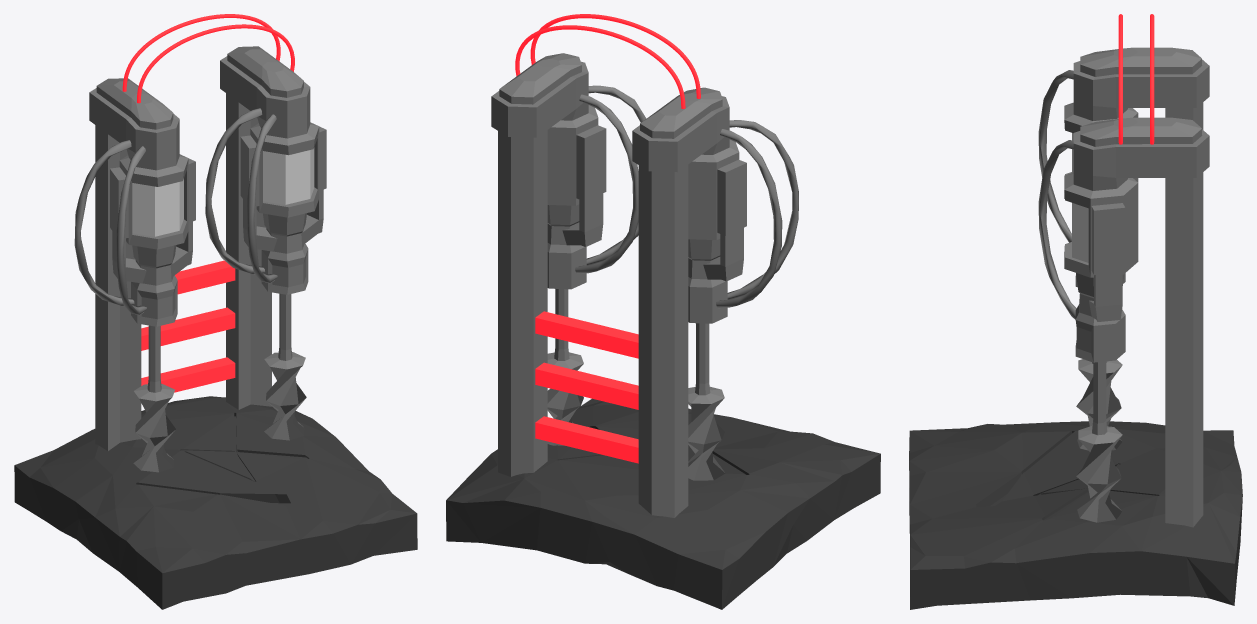
File: StoneGenLevel10.fbx
The picture shows the model from 3 angles, left to right: view 1: azimuth 30°, elevation 25°; view 2: azimuth 150°, elevation 25°; view 3: azimuth 270°, elevation 25°; orthographic projection. The views are drawn at different scales.
Parts seen in each view (by area): view 1: Cube.005, Cylinder, Cylinder.001, Cube, Cube.001, Cube.002, NurbsPath.001, NurbsPath; view 2: Cube.005, Cylinder, Cylinder.001, Cube.001, Cube.002, Cube, NurbsPath, NurbsPath.001; view 3: Cube.005, Cylinder.001, Cylinder, NurbsPath, NurbsPath.001.
Part boxes in pixels (<box>): Cube.005: <box>14,396,417,609</box>; Cylinder: <box>74,78,195,472</box>; Cylinder.001: <box>205,46,326,440</box>; Cube: <box>141,307,235,350</box>; Cube.001: <box>141,357,235,392</box>; Cube.002: <box>175,260,235,294</box>; NurbsPath.001: <box>137,24,294,103</box>; NurbsPath: <box>122,14,280,91</box>; Cube.005: <box>446,398,880,609</box>; Cylinder: <box>632,87,798,517</box>; Cylinder.001: <box>491,53,646,476</box>; Cube.001: <box>535,416,638,463</box>; Cube.002: <box>535,311,638,358</box>; Cube: <box>535,362,638,409</box>; NurbsPath: <box>515,25,685,109</box>; NurbsPath.001: <box>530,14,700,98</box>; Cube.005: <box>909,421,1242,609</box>; Cylinder.001: <box>1038,117,1209,527</box>; Cylinder: <box>1038,47,1209,450</box>; NurbsPath: <box>1150,14,1154,144</box>; NurbsPath.001: <box>1118,14,1122,144</box>.
Bounding box in the file's own units: 1.37 × 2.44 × 1.41.
